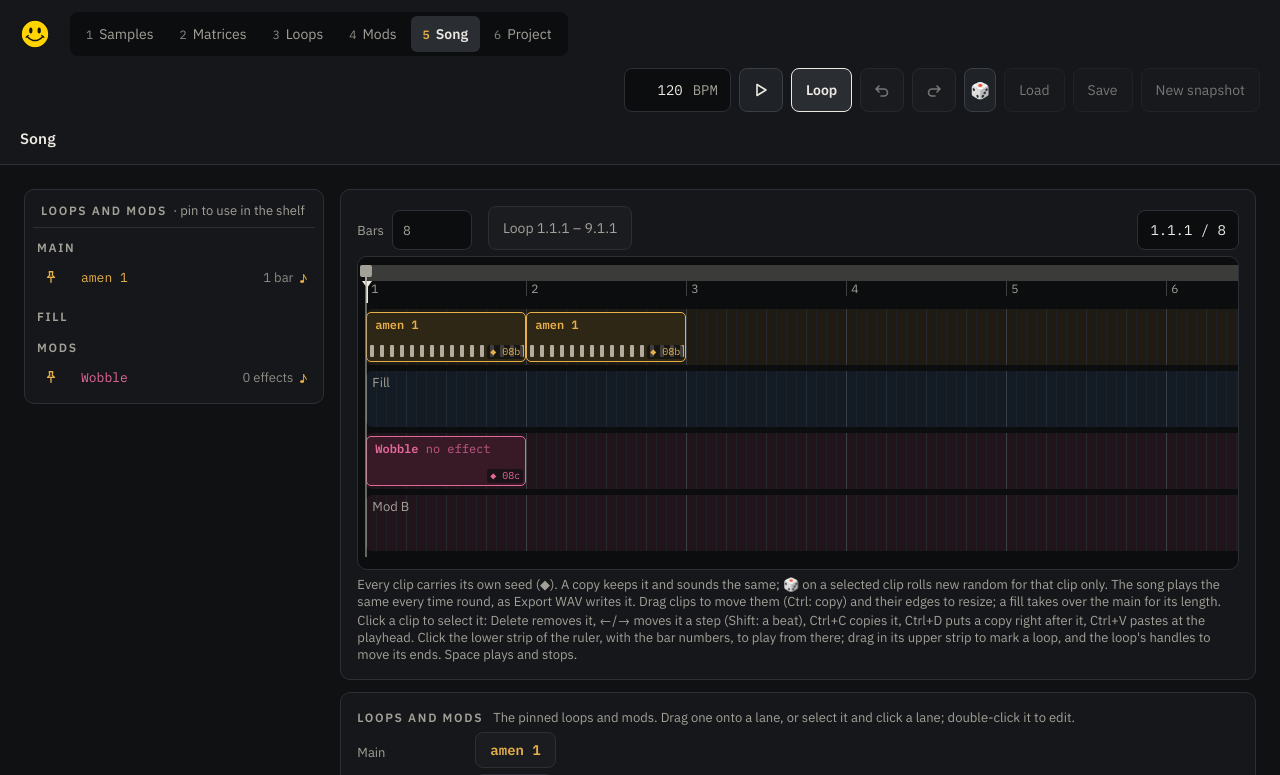
the selected clip’s panel › 🎲 Reroll this clip gives only it a new seed, so it is its own roll; Undo brings the old one back
Step 1. Click the 2nd button "amen 1 ◆ 08b" → (606, 337), box left=526, top=312, right=686, bottom=362
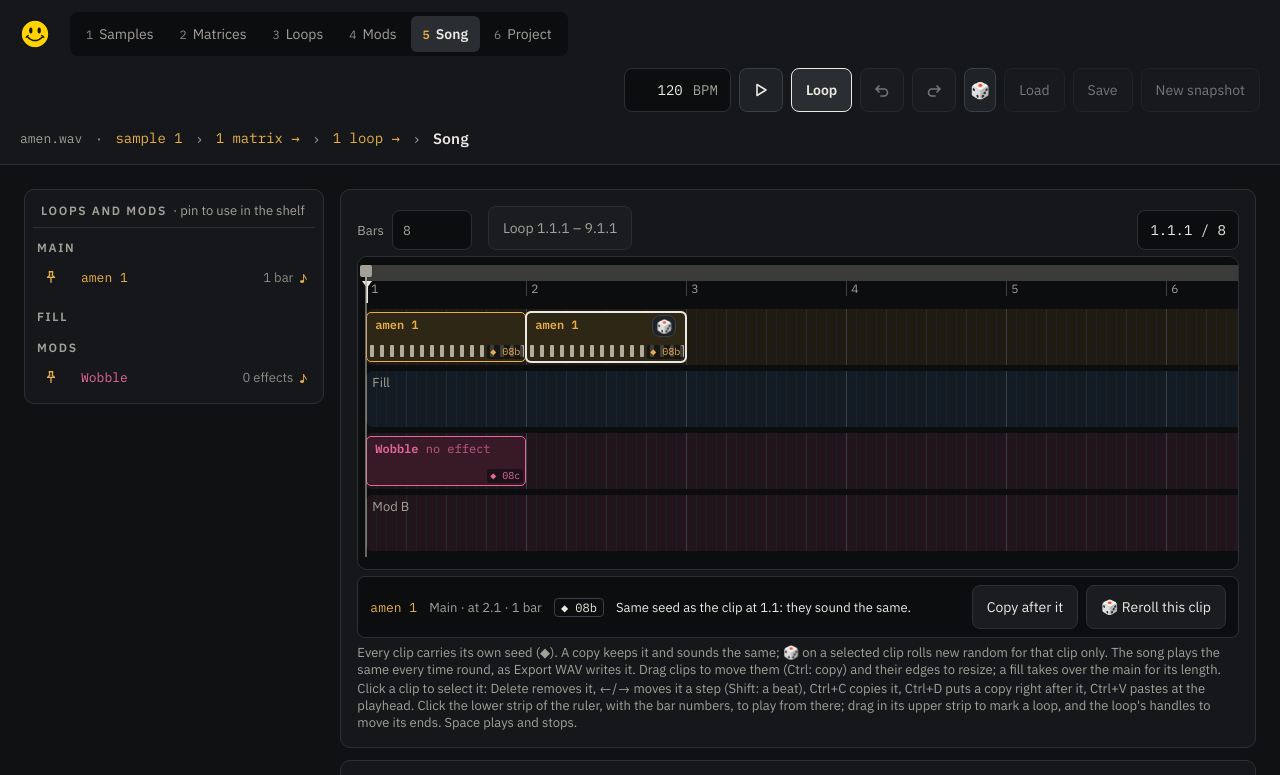
Step 2. Click the button "🎲 Reroll this clip" → (1156, 607), box left=1086, top=585, right=1226, bottom=629
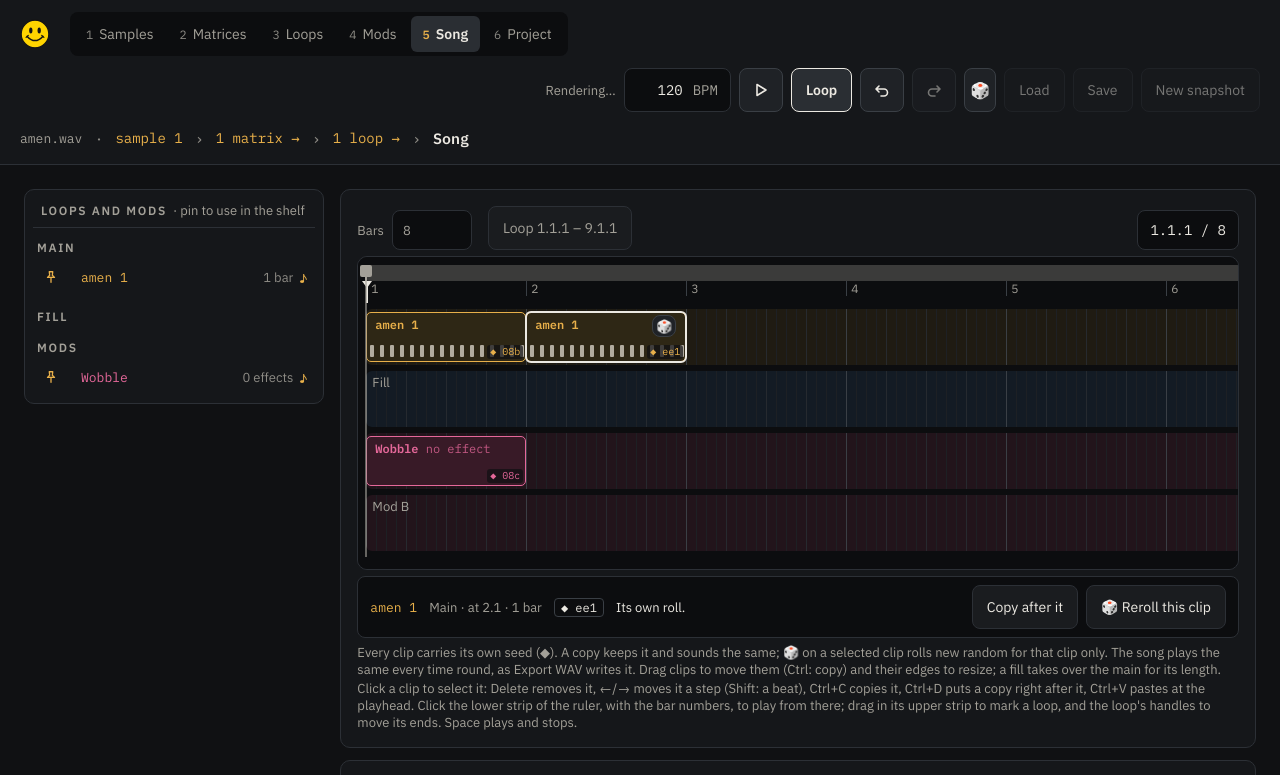
Now the text "Its own roll." is shown, box left=616, top=598, right=685, bottom=616
Step 3. Click the button named "Undo" → (882, 90), box left=860, top=68, right=904, bottom=112
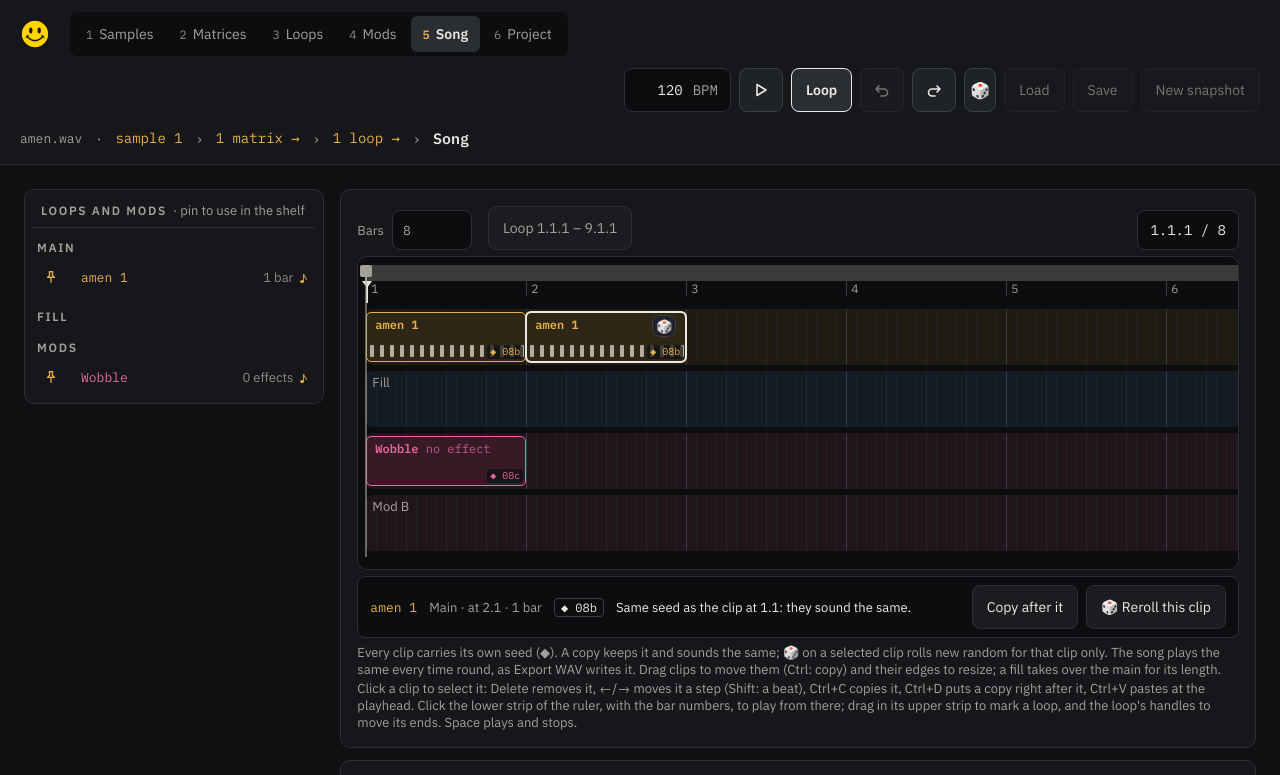
Now the text "Same seed as the clip at 1.1: they sound the same." is shown, box left=616, top=598, right=911, bottom=616
